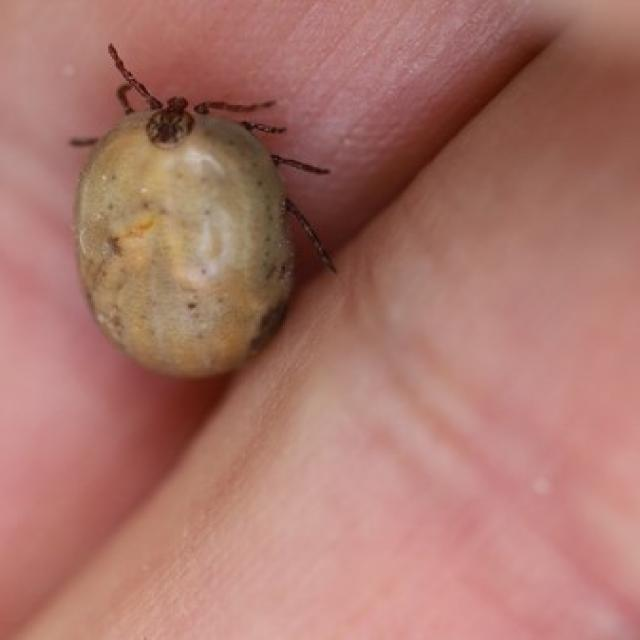Dermacentor Reticulatus-F-Fed: (68, 45, 336, 380)
